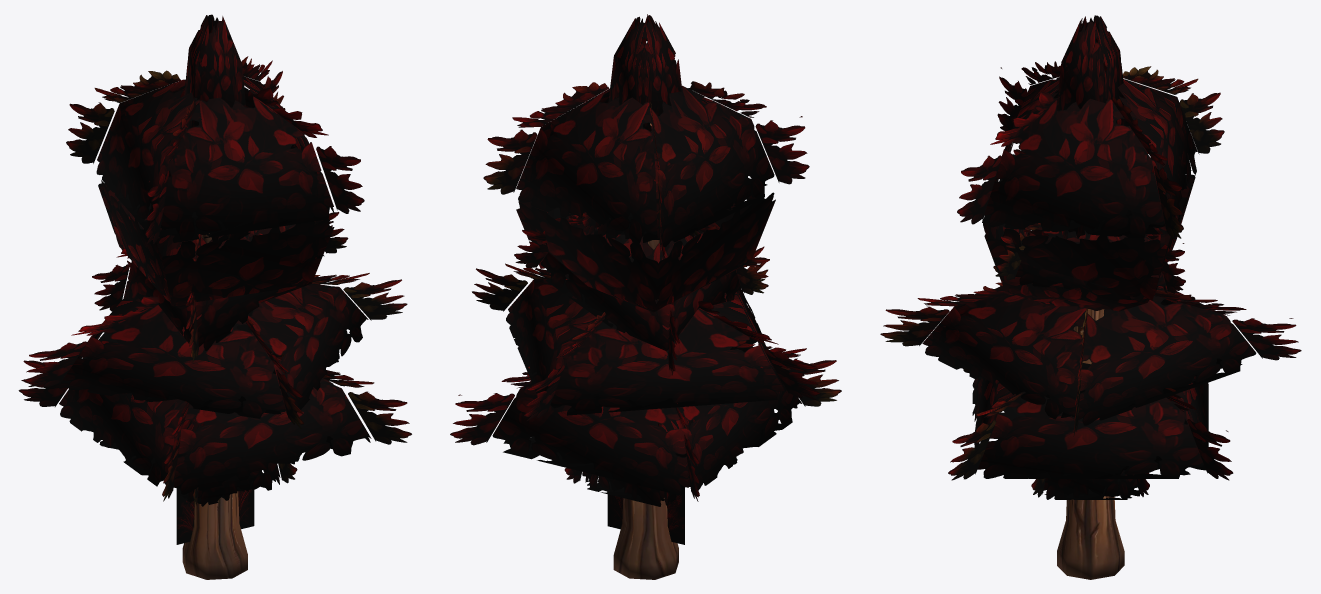
File: grass.glb
3 renders of one model, left to right at view 1: azimuth 30°, elevation 25°; view 2: azimuth 150°, elevation 25°; view 3: azimuth 270°, elevation 25°, orthographic.
Visible parts, largest first — view 1: Bush_Leaf_2_Evergreen, Bush_Leaf_1, Trunk, Bush_1, Grass_2; view 2: Bush_Leaf_2_Evergreen, Bush_Leaf_1, Trunk, Bush_1, Grass_2, Grass_3; view 3: Bush_Leaf_2_Evergreen, Bush_Leaf_1, Trunk, Bush_1.
Part boxes in pixels (box(x1,y1,x2,y2)): Bush_Leaf_2_Evergreen: box(18, 14, 411, 501); Bush_Leaf_1: box(66, 56, 364, 309); Trunk: box(182, 233, 247, 579); Bush_1: box(164, 418, 297, 506); Grass_2: box(176, 481, 254, 544); Bush_Leaf_2_Evergreen: box(450, 14, 841, 501); Bush_Leaf_1: box(483, 81, 809, 312); Trunk: box(613, 123, 678, 579); Bush_1: box(564, 417, 694, 506); Grass_2: box(607, 487, 684, 544); Grass_3: box(610, 495, 681, 543); Bush_Leaf_2_Evergreen: box(880, 15, 1301, 480); Bush_Leaf_1: box(957, 61, 1224, 311); Trunk: box(1057, 309, 1124, 579); Bush_1: box(1031, 470, 1149, 499).
Bounding box in the file's own units: 12.82 × 17.9 × 12.78.
Materials: 8 (8 with a texture image).
